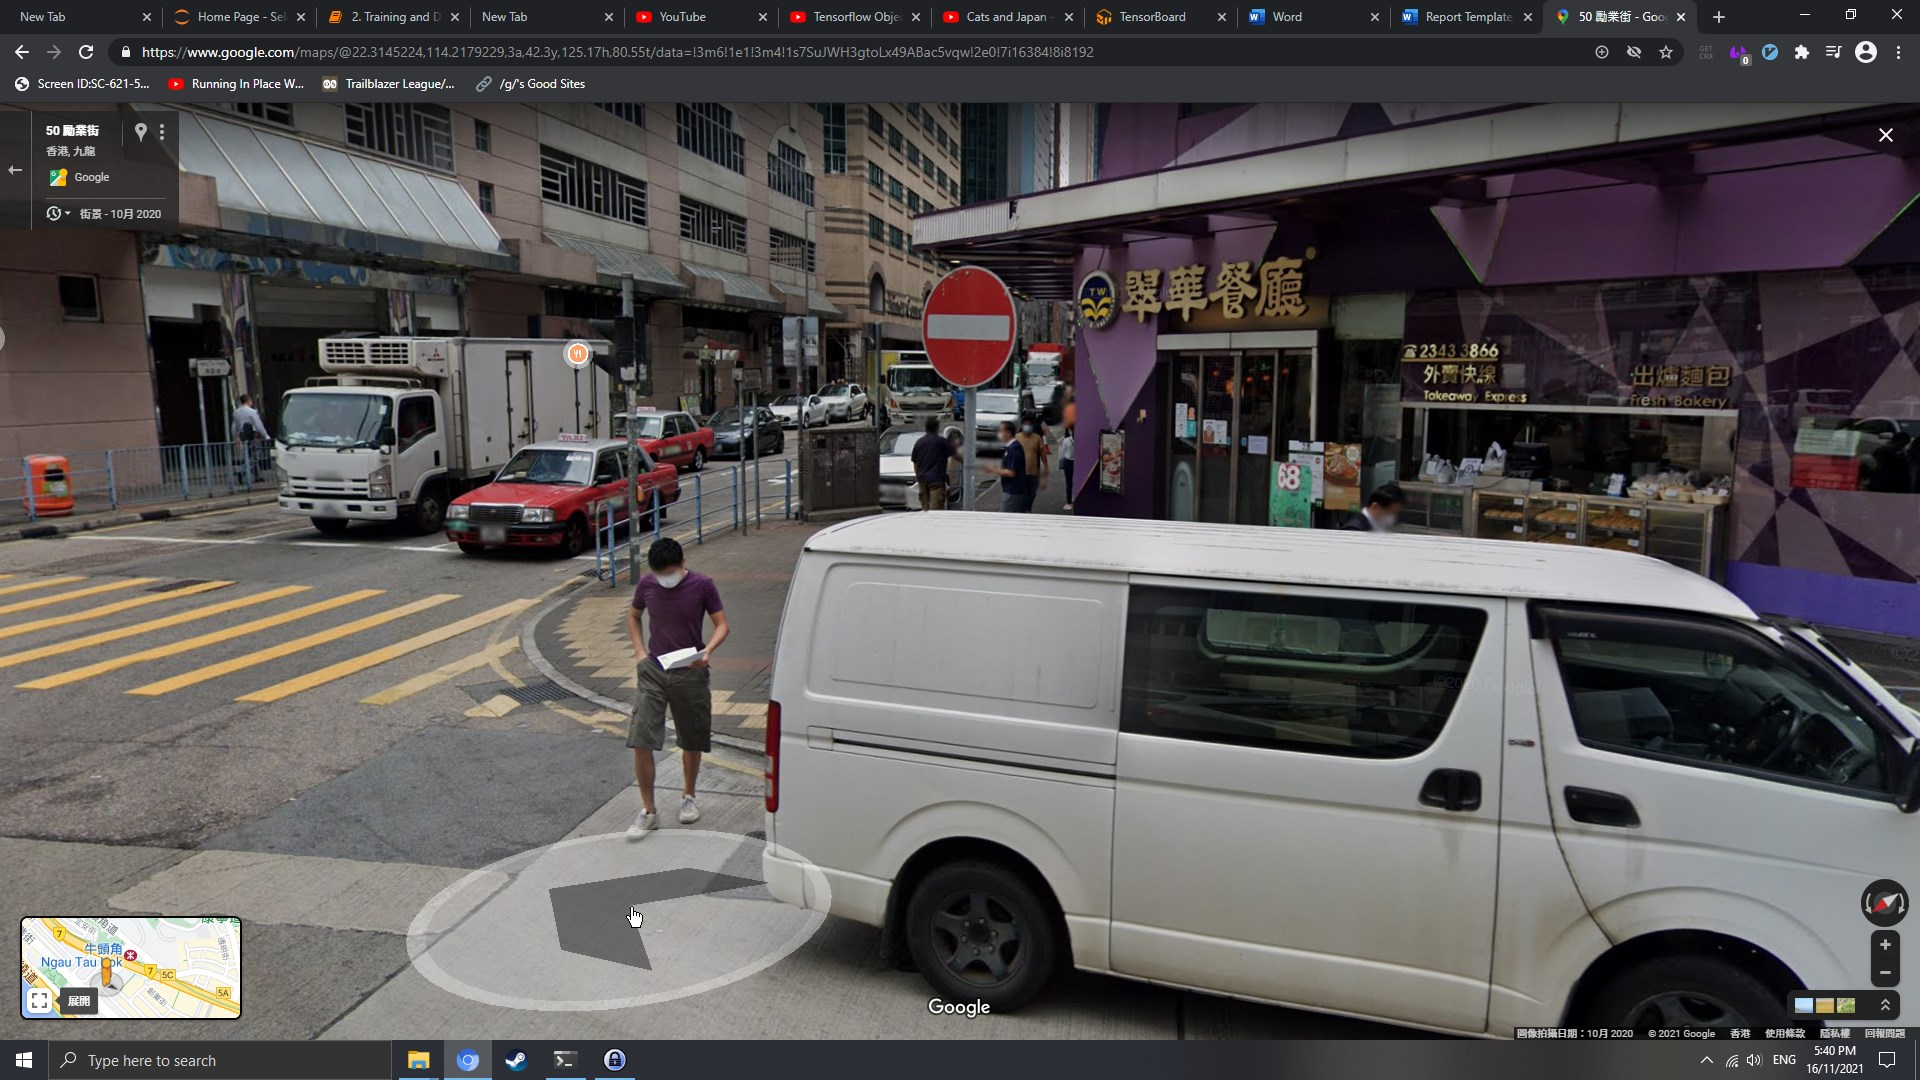NoEntry: (920, 266, 1017, 388)
